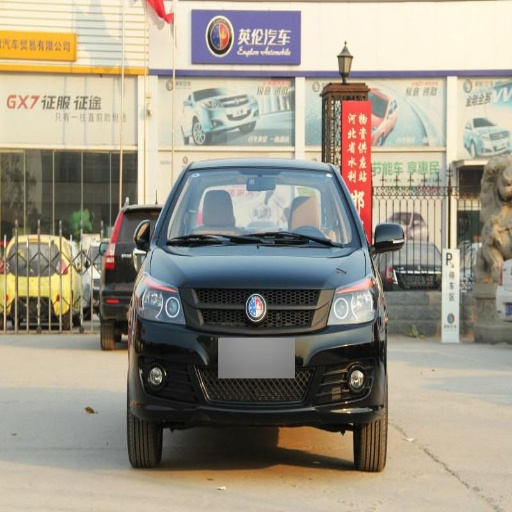front_bumper: (134, 286, 382, 427)
hood: (151, 242, 371, 288)
